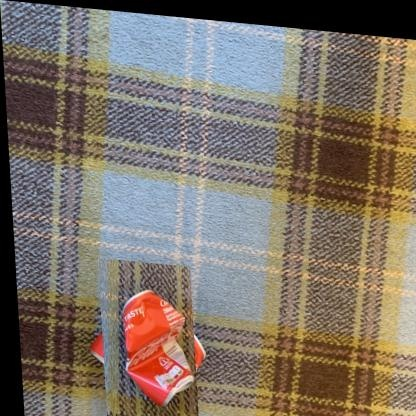trash: (122, 290, 193, 405)
